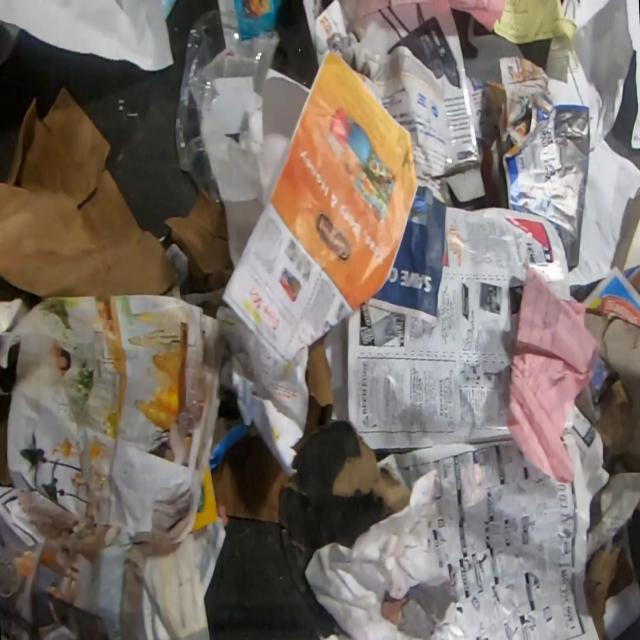cardboard: (0, 84, 180, 299), (280, 418, 412, 617), (560, 399, 640, 640), (575, 311, 640, 474), (438, 73, 496, 206), (162, 191, 234, 295), (212, 434, 292, 525), (290, 332, 334, 454), (582, 540, 634, 640)
soft_plastic: (174, 4, 268, 269)
